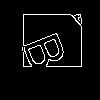B: (21, 26, 78, 74)
